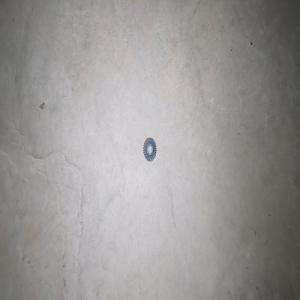Washer: (143, 137, 156, 161)
